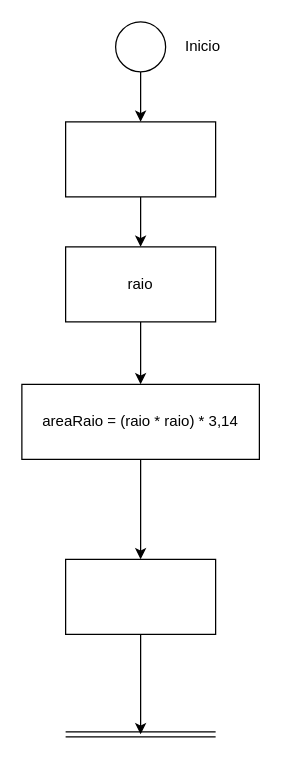
This 281x766 diagram has some shape labels left out. Here are the shapes that lost their labels. From the top down, the centre of each, then its label:
(140,159): escreva("Informe o valor do raio")
(140,596): escreva("A área do círculo é: " + area)
